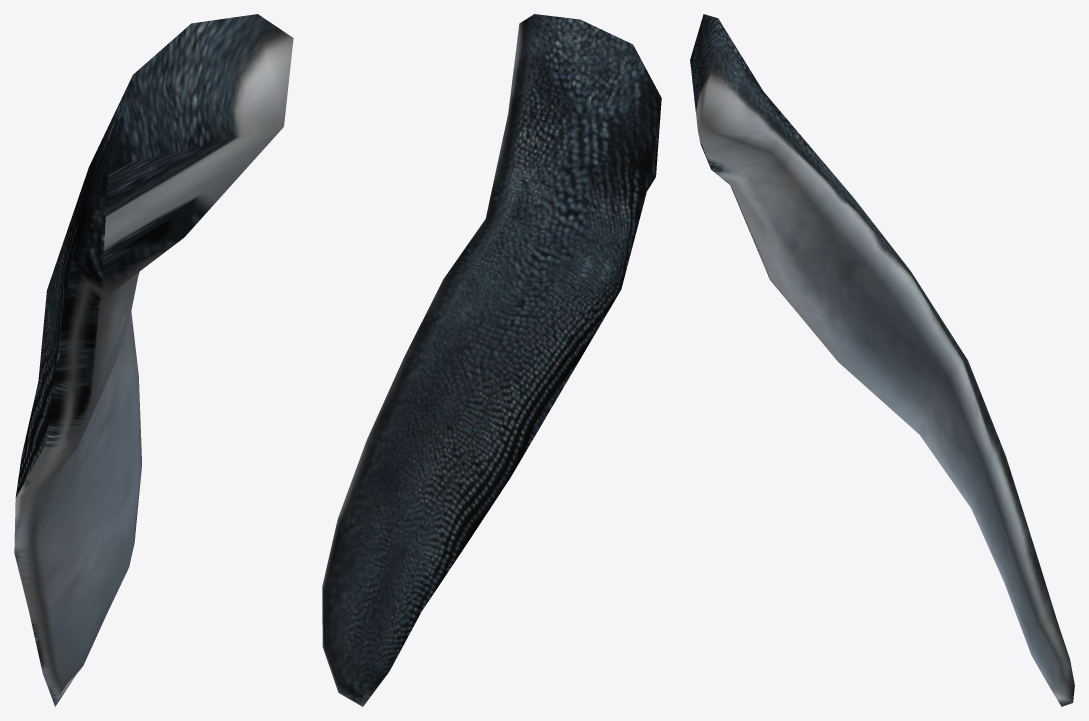
The model's file is penguinAlaDer.obj.
3 renders of one model, left to right at view 1: azimuth 30°, elevation 25°; view 2: azimuth 150°, elevation 25°; view 3: azimuth 270°, elevation 25°, orthographic. The views are drawn at different scales.
Visible parts, largest first — view 1: penguin.011_penguin.009; view 2: penguin.011_penguin.009; view 3: penguin.011_penguin.009.
Part boxes in pixels (x1,y1,x2,y2): penguin.011_penguin.009: [14, 14, 293, 706]; penguin.011_penguin.009: [322, 14, 661, 706]; penguin.011_penguin.009: [690, 14, 1074, 706].
Size of the model in its own units: 0.4524 by 1.39 by 0.7379.
1 material, 1 textured.
